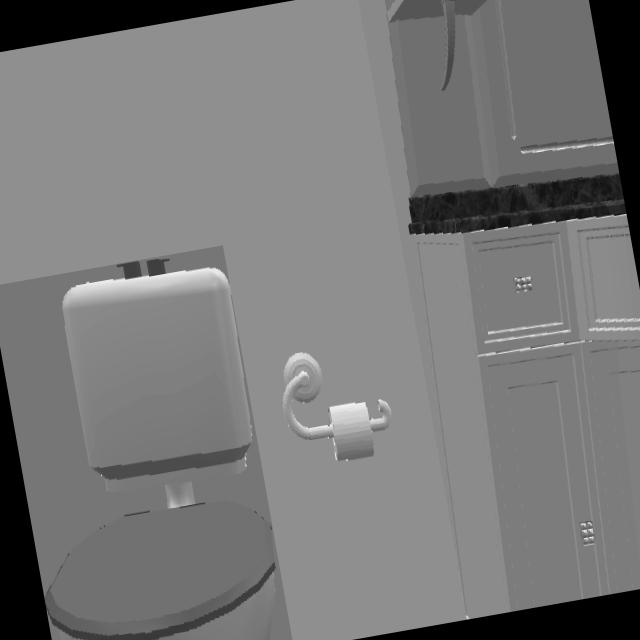cabinet: (385, 0, 640, 619)
toilet: (45, 258, 277, 640)
